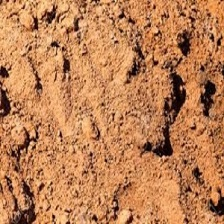clay_soil: (5, 24, 218, 194)
